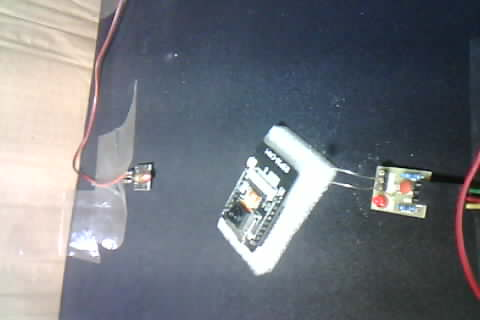esp32: (213, 122, 315, 270)
